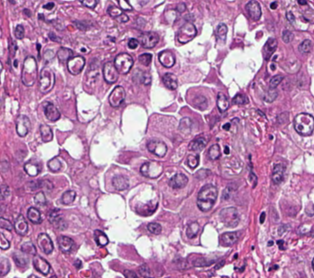nucleus: (197, 184, 217, 211), (21, 56, 37, 86), (176, 22, 196, 43), (114, 53, 133, 73), (219, 207, 239, 226), (39, 68, 54, 93), (48, 209, 66, 229), (108, 86, 125, 107), (103, 61, 118, 83), (140, 162, 162, 177), (139, 31, 158, 48), (147, 139, 166, 156), (37, 233, 53, 253), (67, 56, 84, 74), (44, 102, 60, 121), (245, 0, 260, 20), (16, 115, 30, 136), (188, 136, 206, 152), (158, 50, 174, 67), (169, 173, 187, 188), (14, 215, 27, 235), (58, 235, 73, 252), (264, 38, 276, 59), (271, 164, 284, 183), (57, 47, 73, 62), (162, 73, 177, 89), (112, 175, 128, 190), (24, 161, 39, 176), (27, 207, 41, 223), (94, 230, 108, 246), (220, 232, 237, 245), (217, 93, 229, 111), (186, 222, 199, 238), (40, 124, 52, 141), (215, 23, 226, 41), (87, 62, 98, 80), (193, 95, 207, 109), (61, 190, 75, 204), (263, 89, 277, 102), (208, 144, 220, 159), (107, 6, 123, 17), (269, 75, 282, 88), (179, 118, 191, 132), (186, 154, 198, 168), (147, 222, 161, 234), (232, 93, 247, 104), (48, 158, 60, 171), (0, 217, 12, 230), (139, 71, 150, 85), (34, 191, 45, 205), (0, 232, 9, 249), (139, 53, 151, 65), (40, 180, 52, 192), (43, 50, 54, 62), (118, 0, 131, 10), (14, 25, 24, 38), (81, 0, 97, 8), (195, 169, 209, 178), (1, 184, 9, 197), (128, 38, 138, 48), (42, 2, 54, 10), (176, 3, 185, 13), (10, 40, 16, 55), (49, 33, 60, 41), (118, 14, 127, 22), (277, 240, 284, 249), (260, 212, 265, 223), (270, 1, 276, 8), (223, 123, 229, 129), (224, 146, 228, 153)
